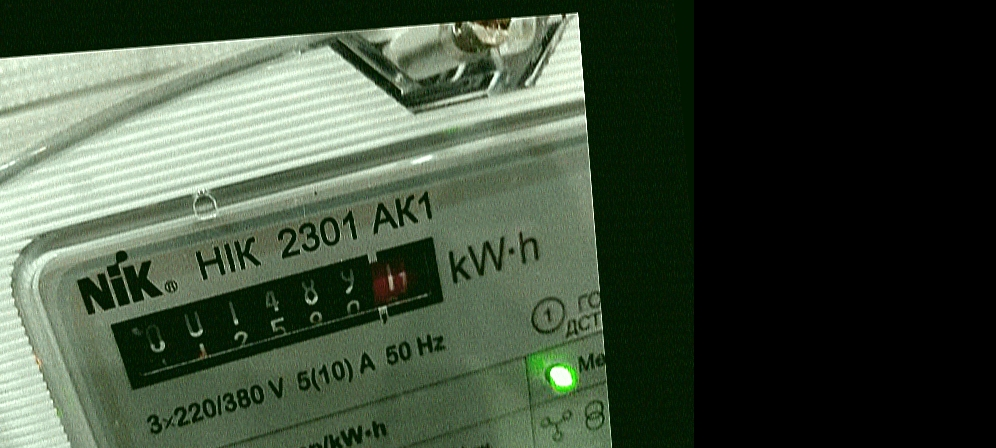0: (178, 302, 206, 340), (141, 319, 168, 356)
1: (378, 255, 400, 294), (221, 295, 244, 327)
4: (258, 282, 283, 314)
8: (298, 271, 321, 308)
9: (336, 262, 359, 295)
screen: (92, 223, 478, 403)
